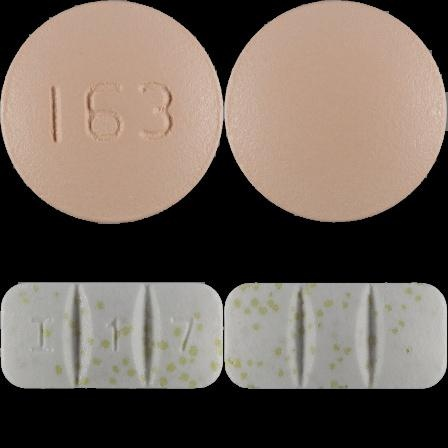23155-135: (0, 0, 224, 224)
